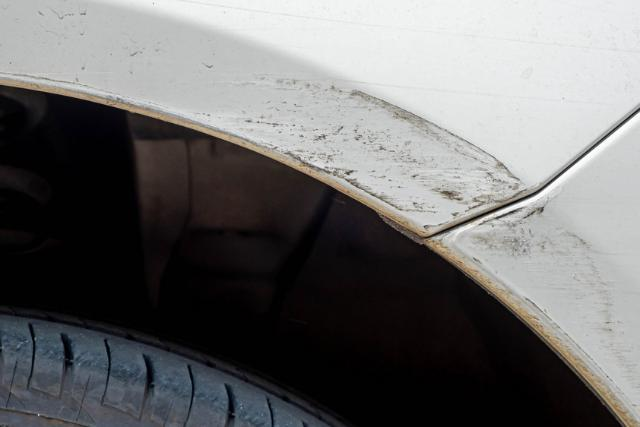Bumper: (472, 217, 633, 346)
Fender: (10, 0, 484, 223)
